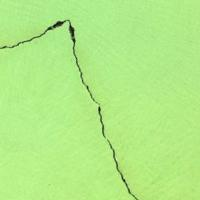crack: (0, 13, 142, 199)
